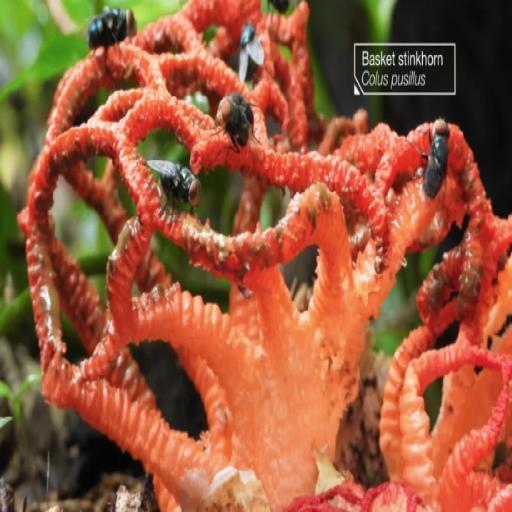mushroom: (25, 18, 512, 512)
